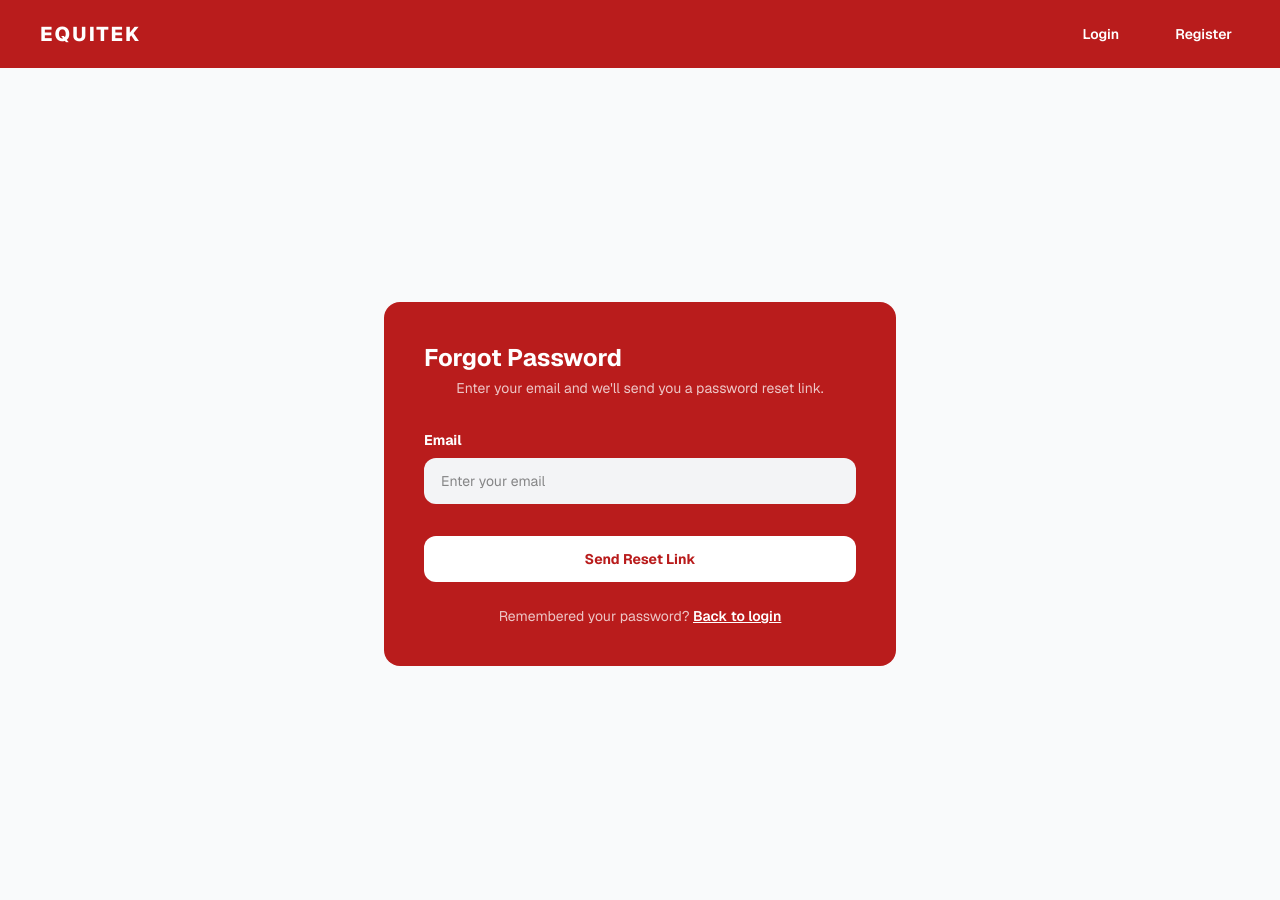
Test: ForgotPasswordPage › submits the email and shows the success state
This screenshot has width=1280, height=900.
Type "user@example.com" into the field labelled "Email".
click(640, 481); type("user@example.com")  # box x1=424 y1=458 x2=856 y2=504
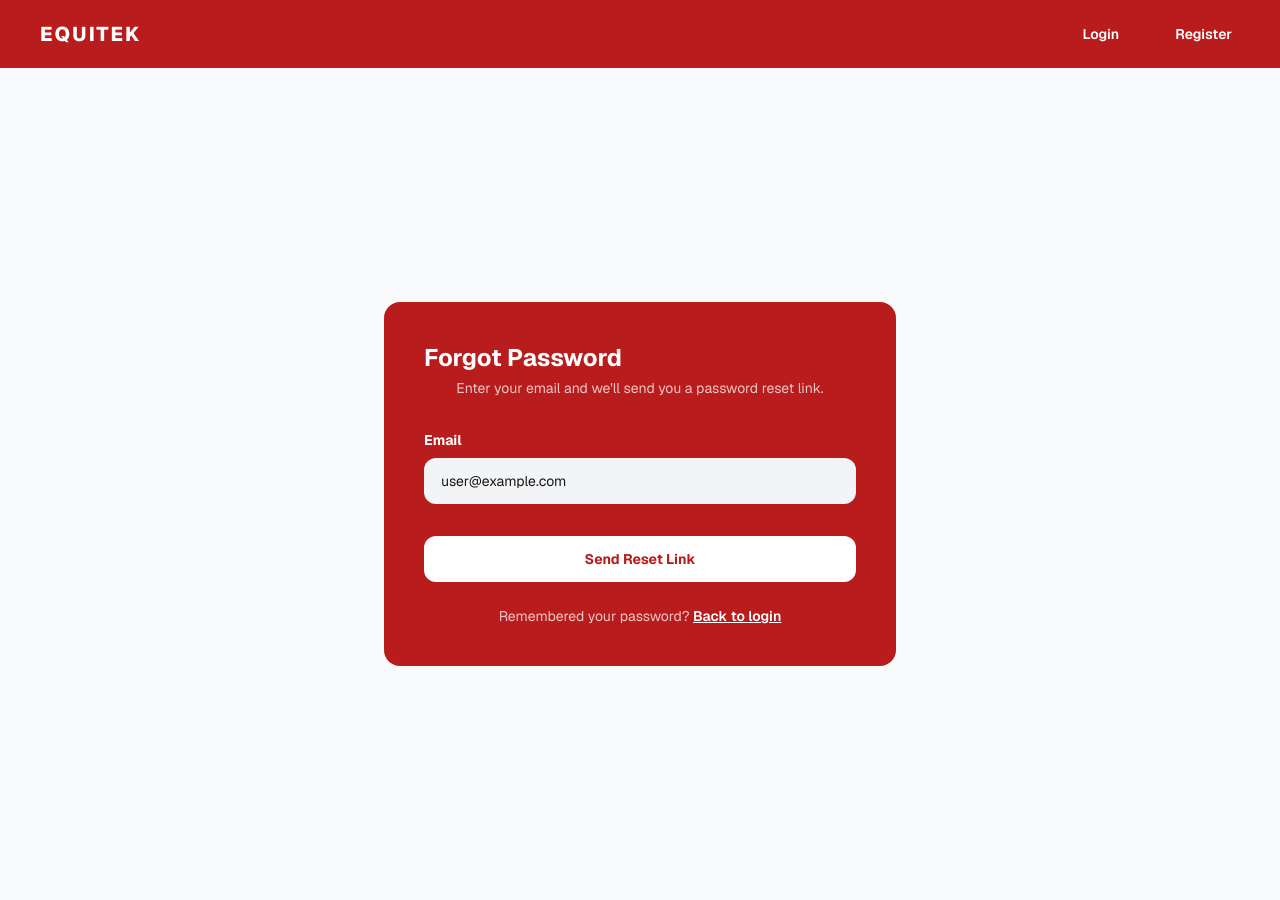
Click the button "Send Reset Link".
click(640, 559)  # box x1=424 y1=536 x2=856 y2=582
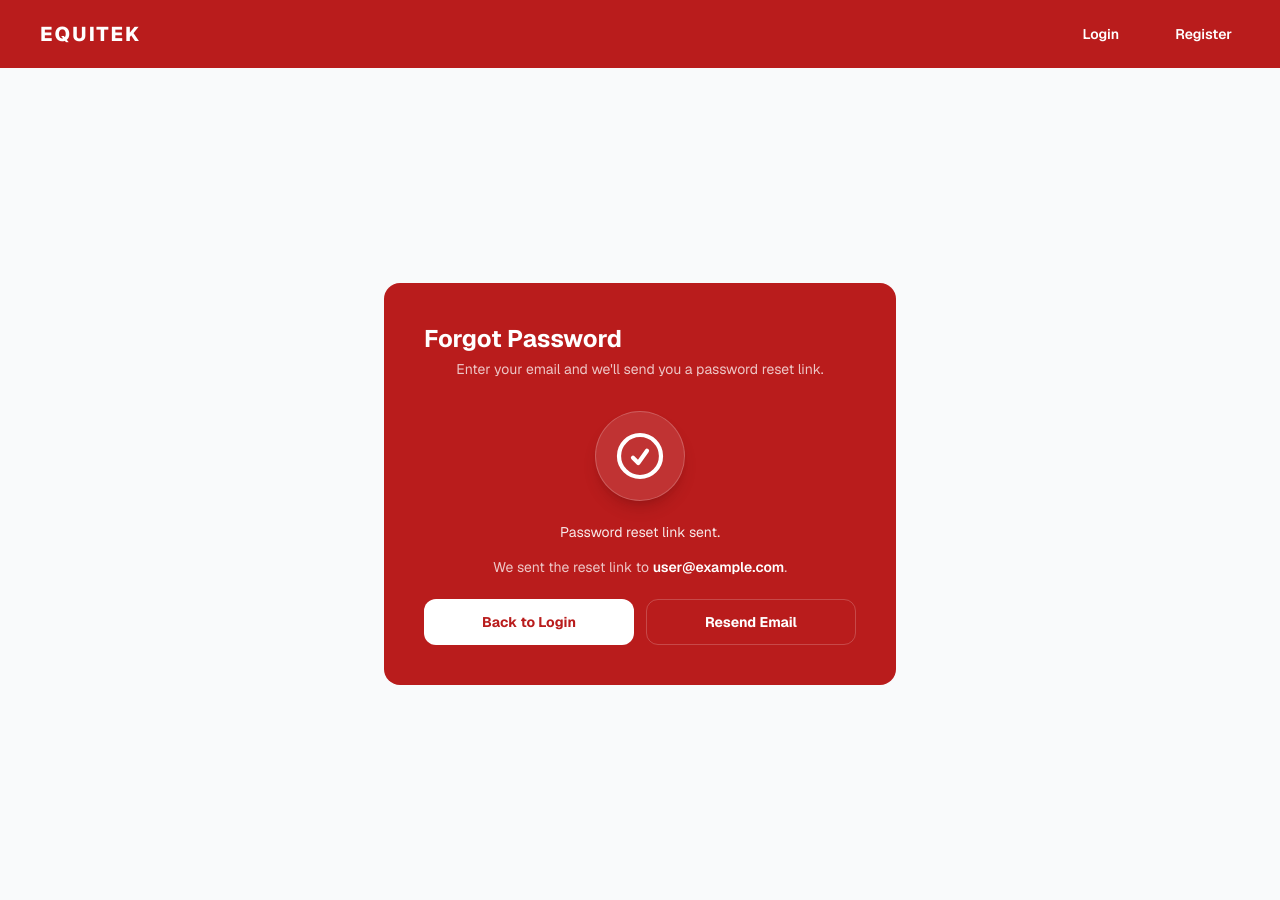
Expected: the link "Back to Login" is shown, x1=424 y1=599 x2=634 y2=645
Result: the text "Password reset link sent." is shown at x1=560 y1=523 x2=720 y2=541
